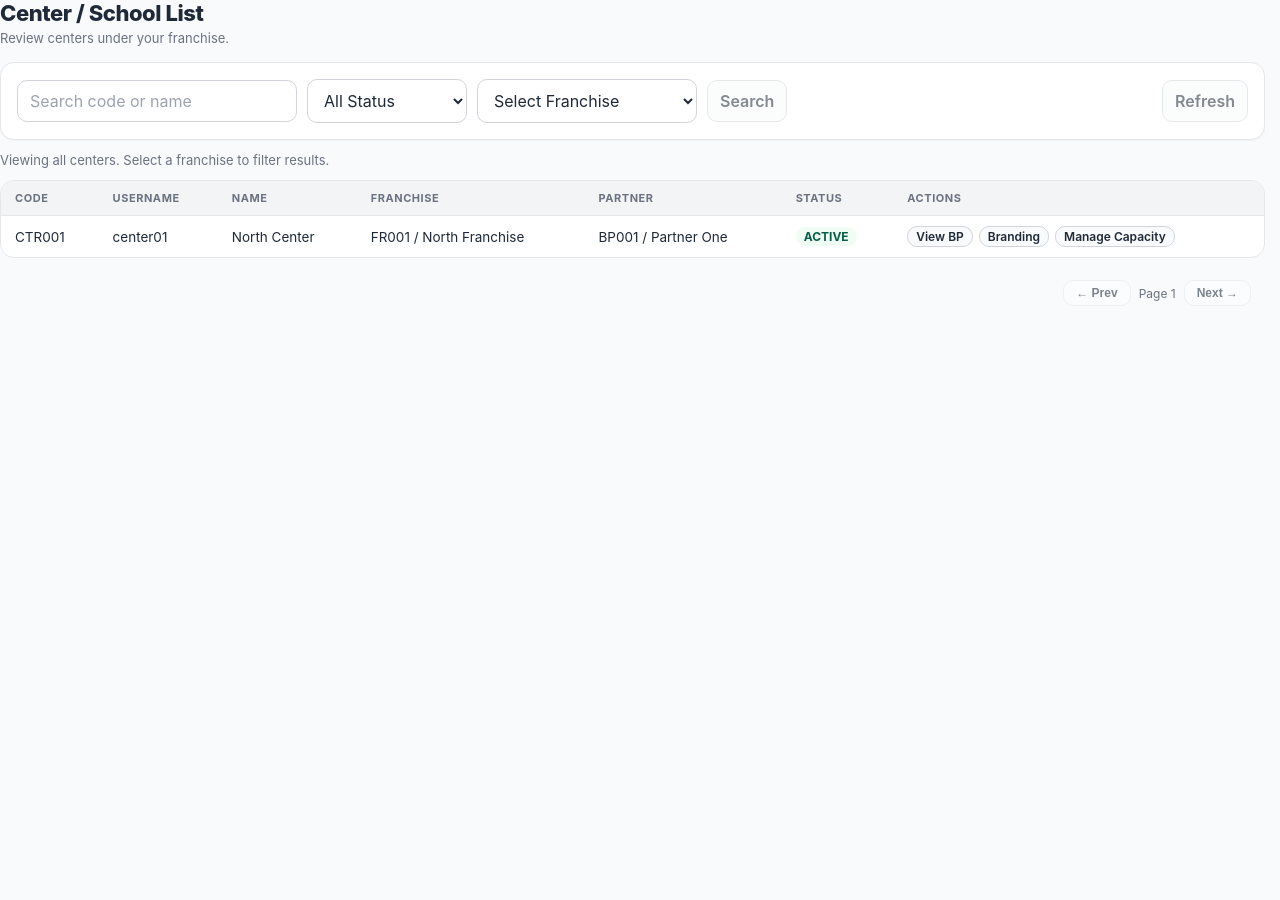
Test: SuperadminCentersPage › disables save when the form contains invalid capacity values
Expected: the text "North Center" is shown, [218, 216, 357, 257]
Click the button "Manage Capacity": (1115, 236) [1055, 226, 1175, 247]
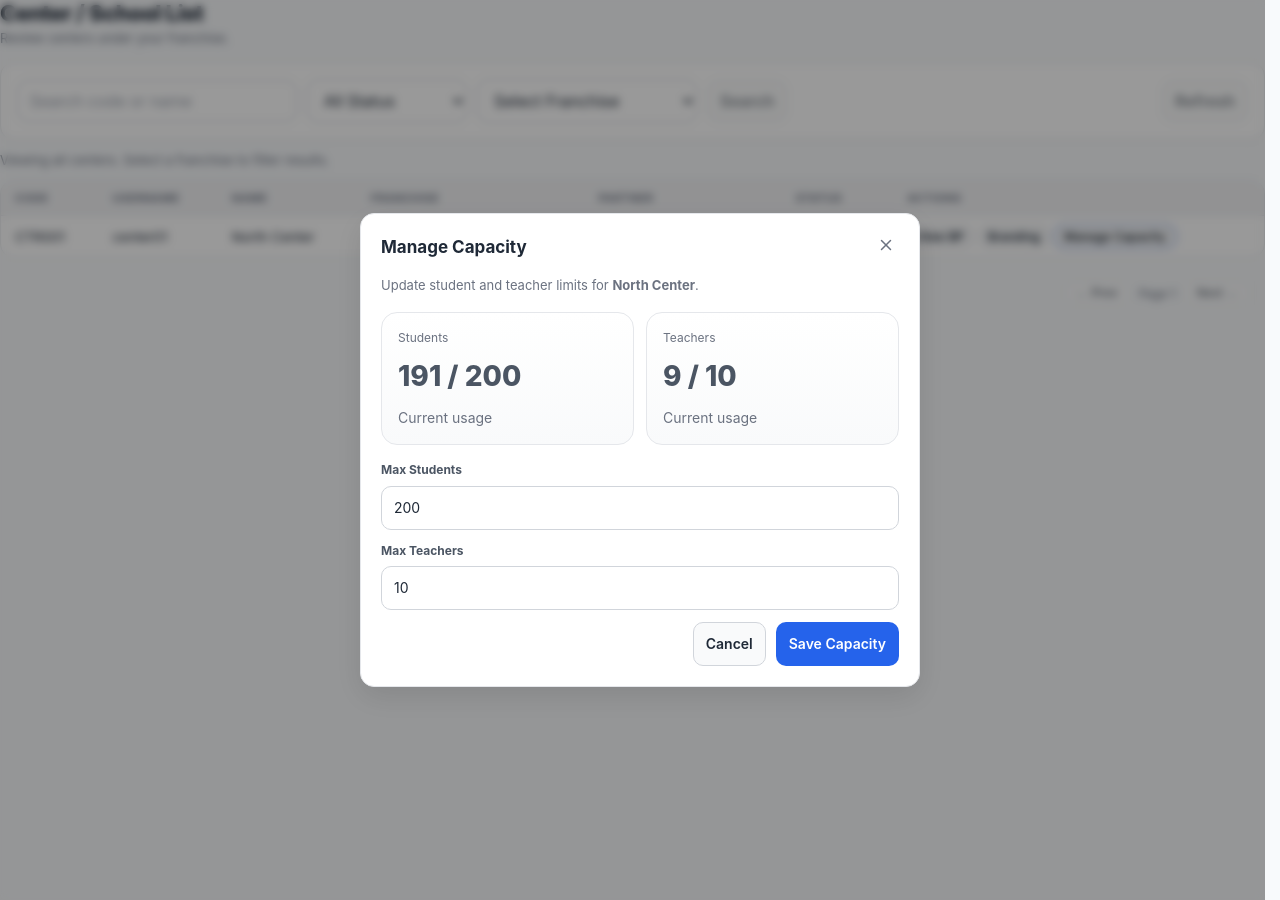
Replace the text in the number field labelled "Max Teachers" with "-1": (640, 588) [381, 566, 899, 610]
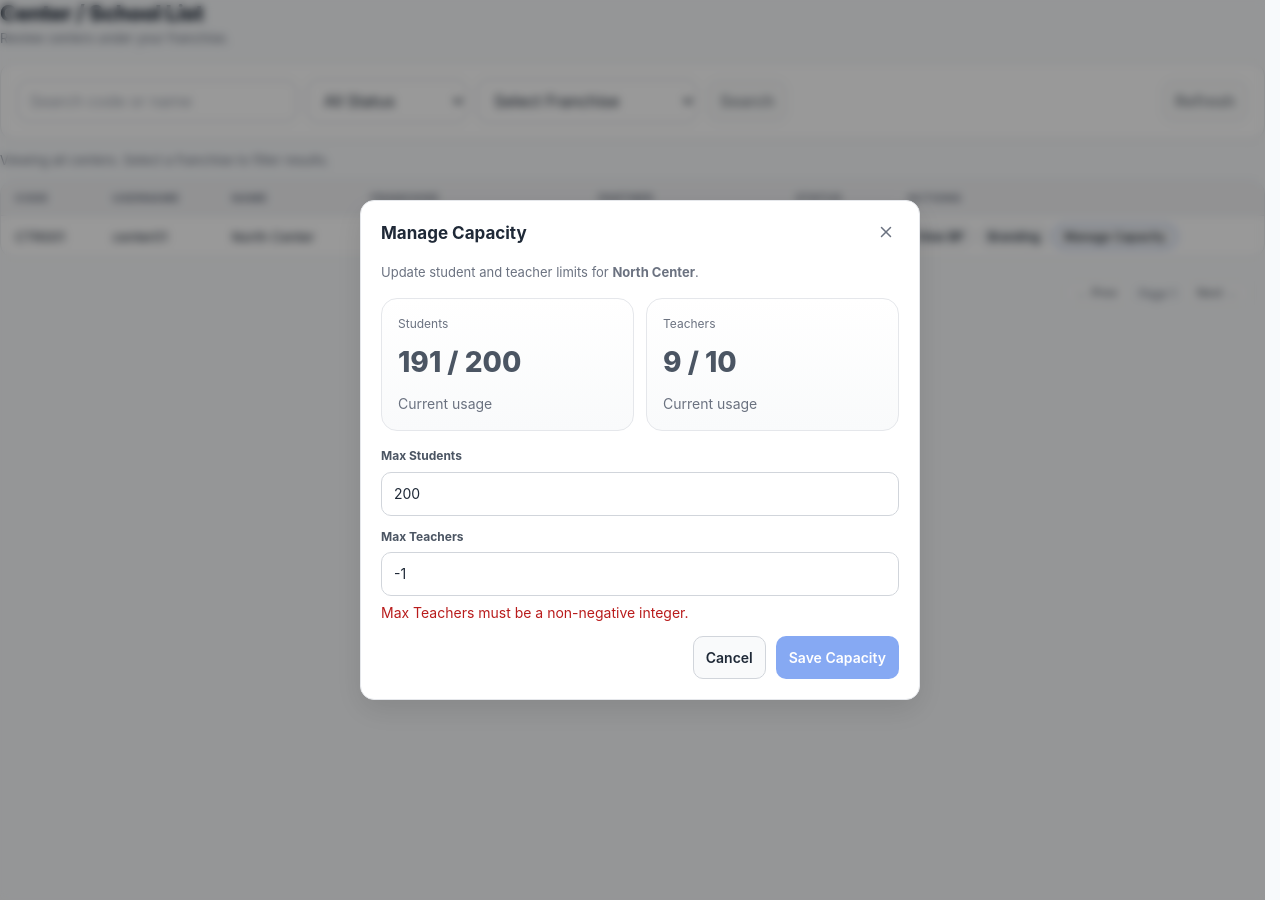
Now the text "Max Teachers must be a non-negative integer." is shown, box [381, 604, 688, 621]
Now the button "Save Capacity" is disabled, box [776, 636, 899, 679]
